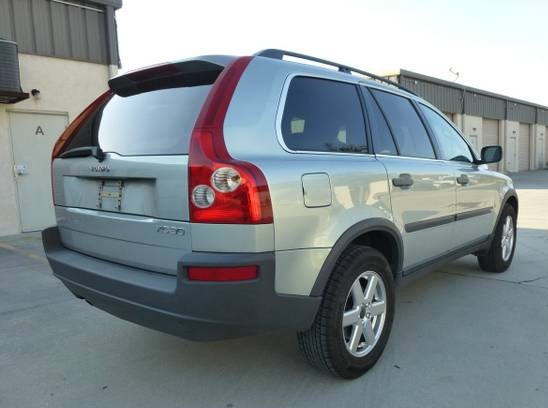volvo: (28, 37, 547, 386)
